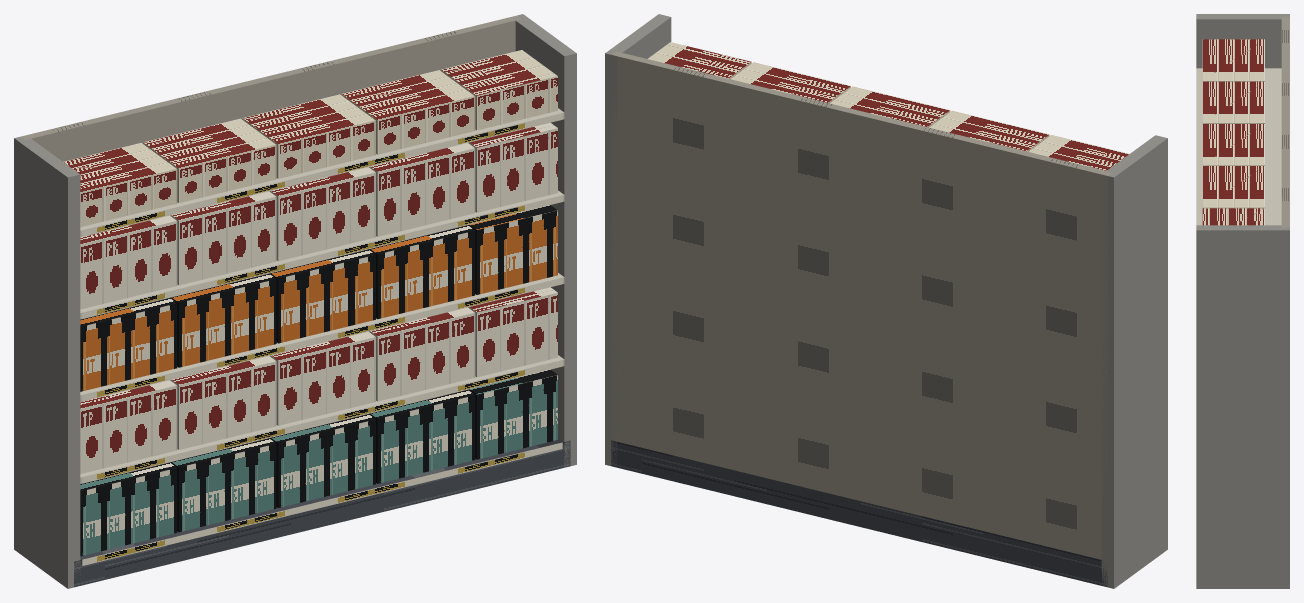
File: COM_WallShelf_Health.glb
3 views of the same model, side by side, from view 1: azimuth 30°, elevation 25°; view 2: azimuth 150°, elevation 25°; view 3: azimuth 270°, elevation 25° (orthographic). The views are drawn at different scales.
Visible parts, largest first — view 1: COM_WallShelf_Health_Mesh; view 2: COM_WallShelf_Health_Mesh; view 3: COM_WallShelf_Health_Mesh.
Part boxes in pixels (x1=…): COM_WallShelf_Health_Mesh: x1=14, y1=14, x2=576, y2=588; COM_WallShelf_Health_Mesh: x1=605, y1=14, x2=1167, y2=588; COM_WallShelf_Health_Mesh: x1=1196, y1=14, x2=1289, y2=588.
Size of what is drawn, in the model's own units: 2.46 by 1.9 by 0.451.
1 material, 1 textured.
